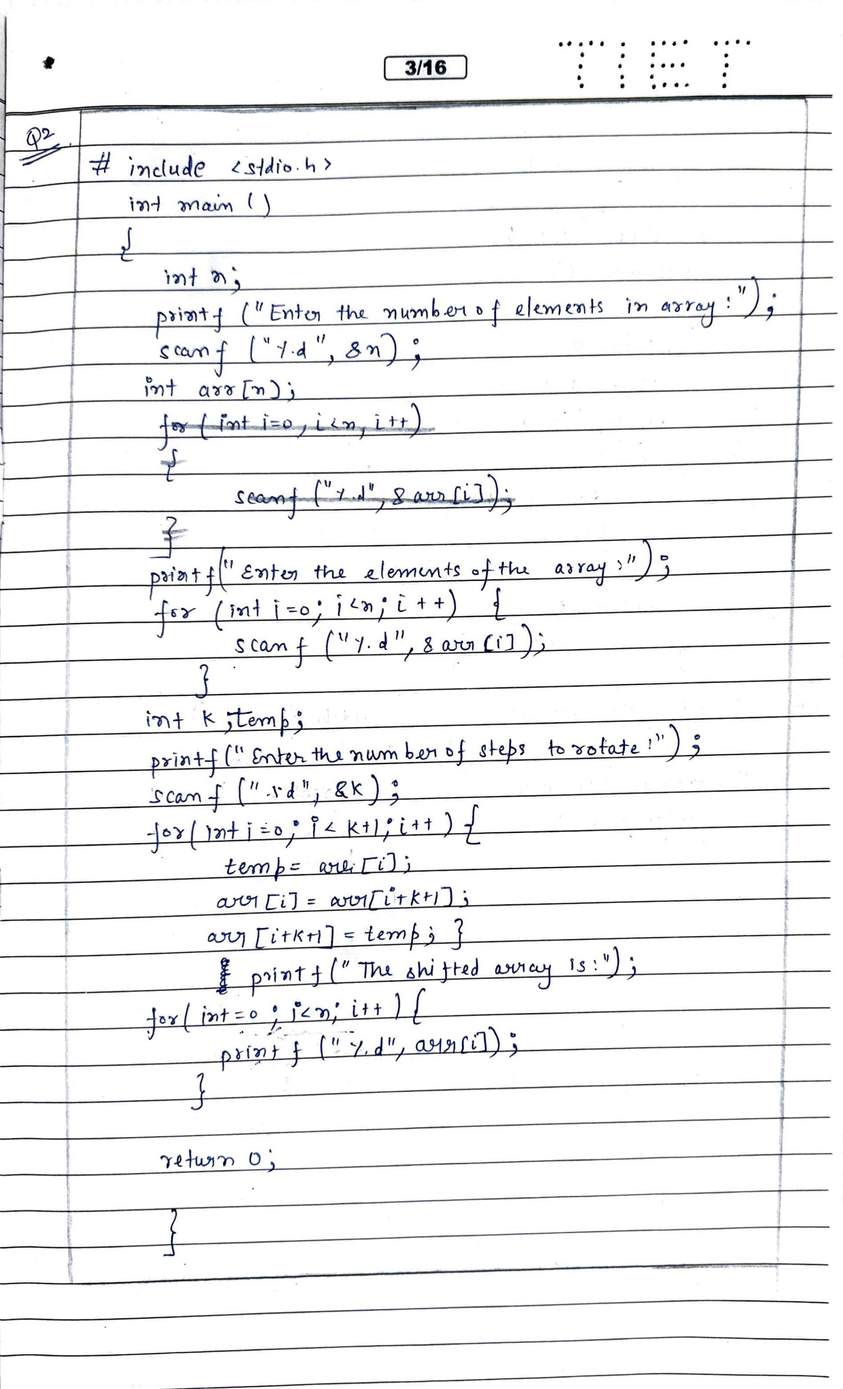cuttings: (159, 400, 435, 452), (231, 471, 515, 520), (147, 515, 189, 561), (213, 957, 233, 996), (160, 447, 180, 484)
